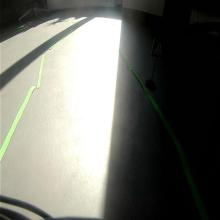crosswalk: (151, 37, 168, 58)
